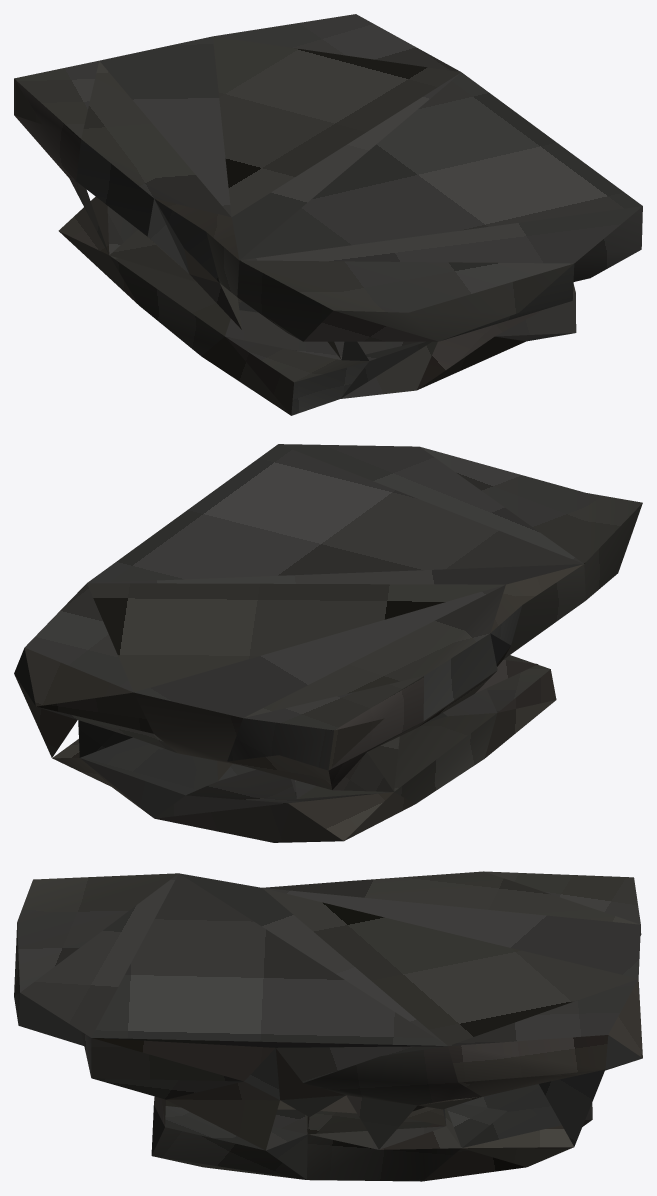
The model's file is stunt-landing-deck.collision.glb.
3 views of the same model, one above another, from view 1: azimuth 30°, elevation 25°; view 2: azimuth 150°, elevation 25°; view 3: azimuth 270°, elevation 25° (orthographic). The views are drawn at different scales.
Visible parts, largest first — view 1: output_unwrapped; view 2: output_unwrapped; view 3: output_unwrapped.
Part boxes in pixels (x1,y1,x2,y2): output_unwrapped: (14,14,642,415); output_unwrapped: (14,444,642,842); output_unwrapped: (14,871,642,1181).
Bounding box in the file's own units: 1.21 × 0.5674 × 1.87.
1 material, 1 textured.
